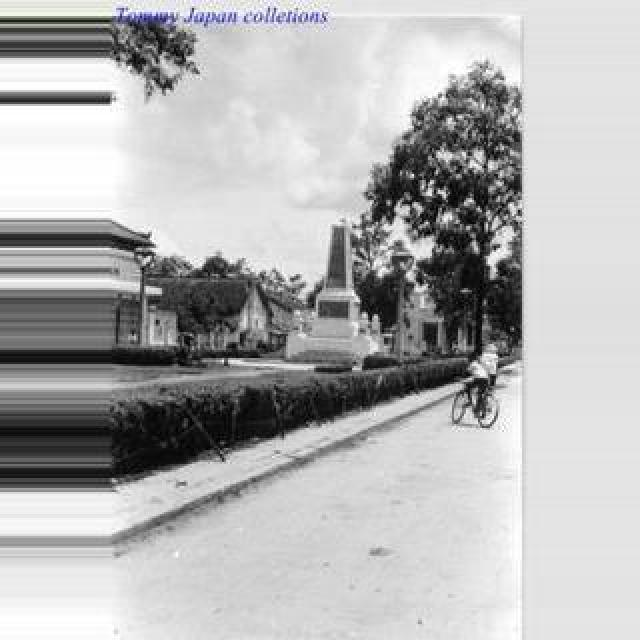MC-Bike: (458, 344, 498, 418)
Person: (450, 376, 500, 428)
